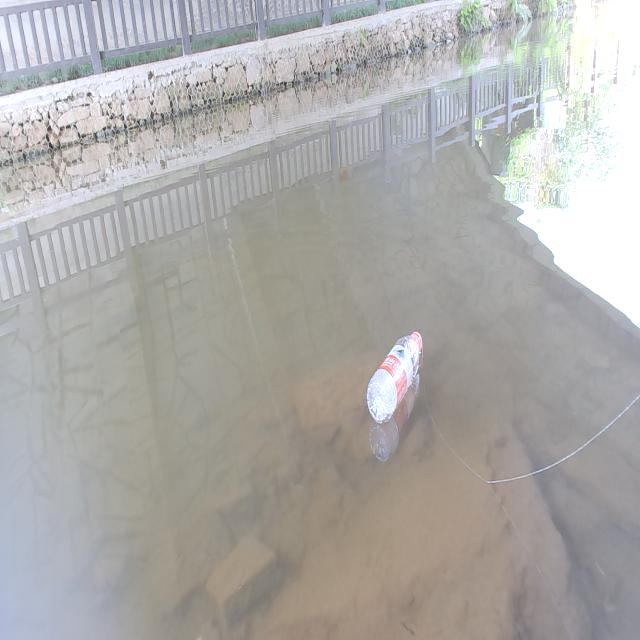bottle: (348, 303, 438, 441)
